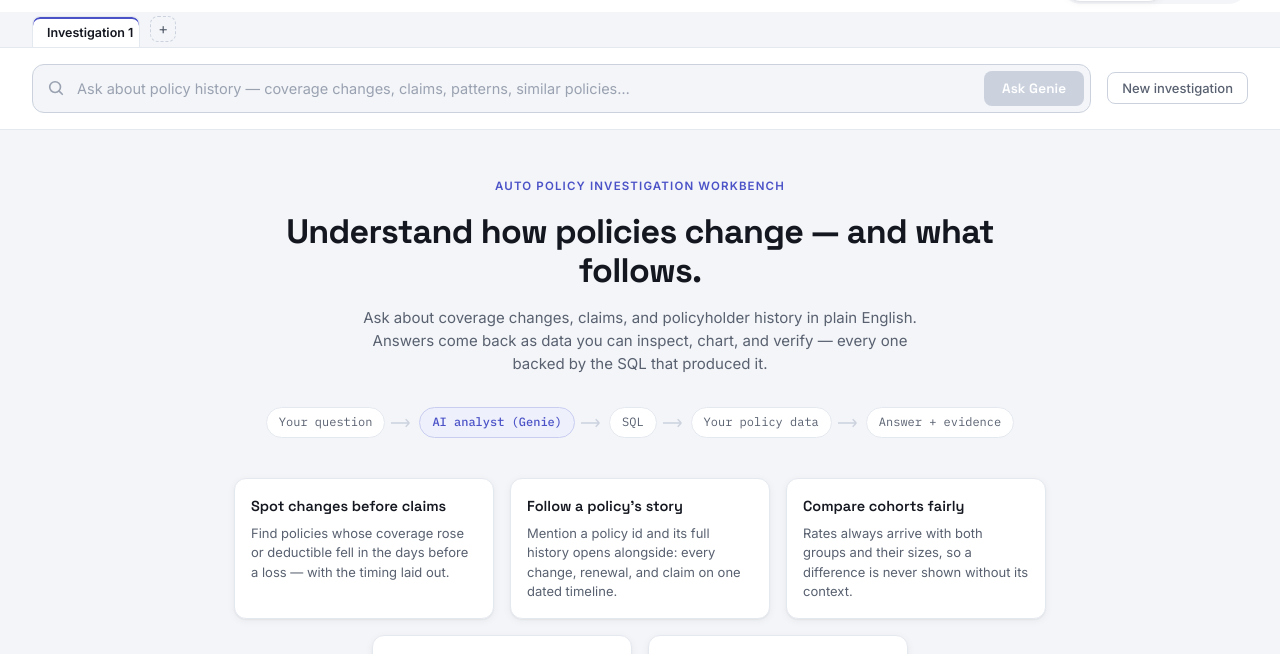
Test: App smoke test (mock mode) › the evidence drawer is collapsed by default and expands to show the generated SQL
The width and height of the screenshot is (1280, 654).
Replace the text in the field labelled "Ask about policy history" with "Show policies where coverage increased within 30 days before a claim." at (524, 88), box [73,72,976,105]
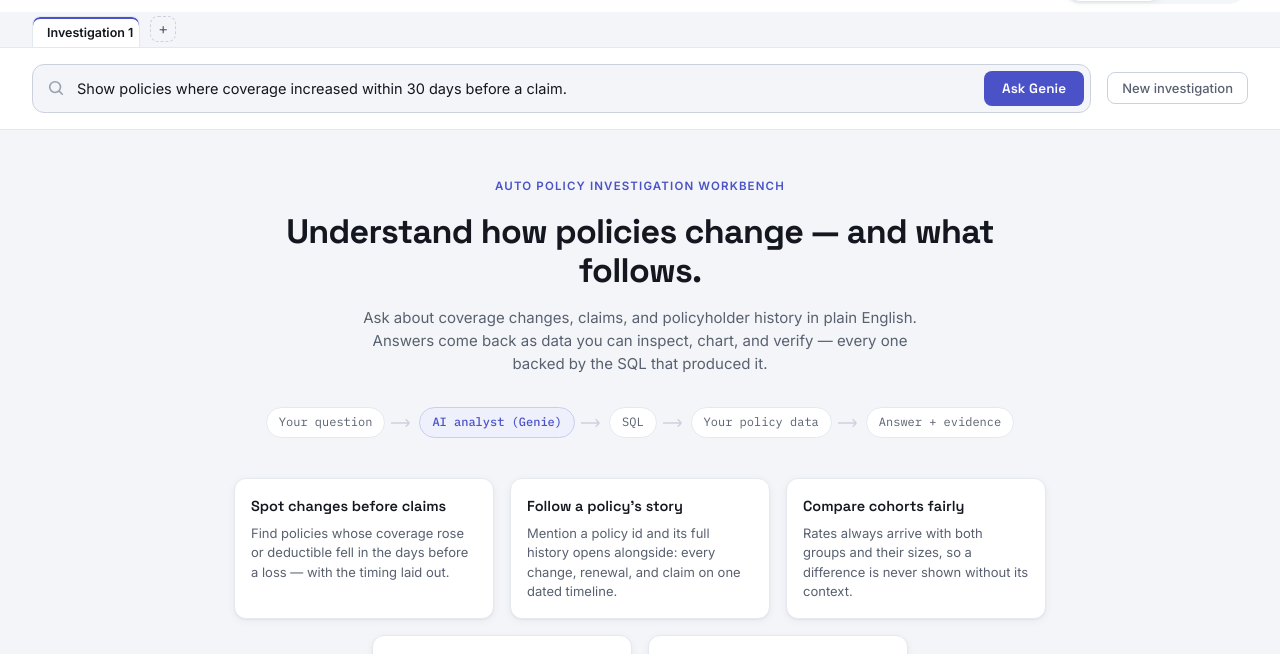
Submit the form named "Ask about policy history", box [32,64,1091,113]
(page scrolled)
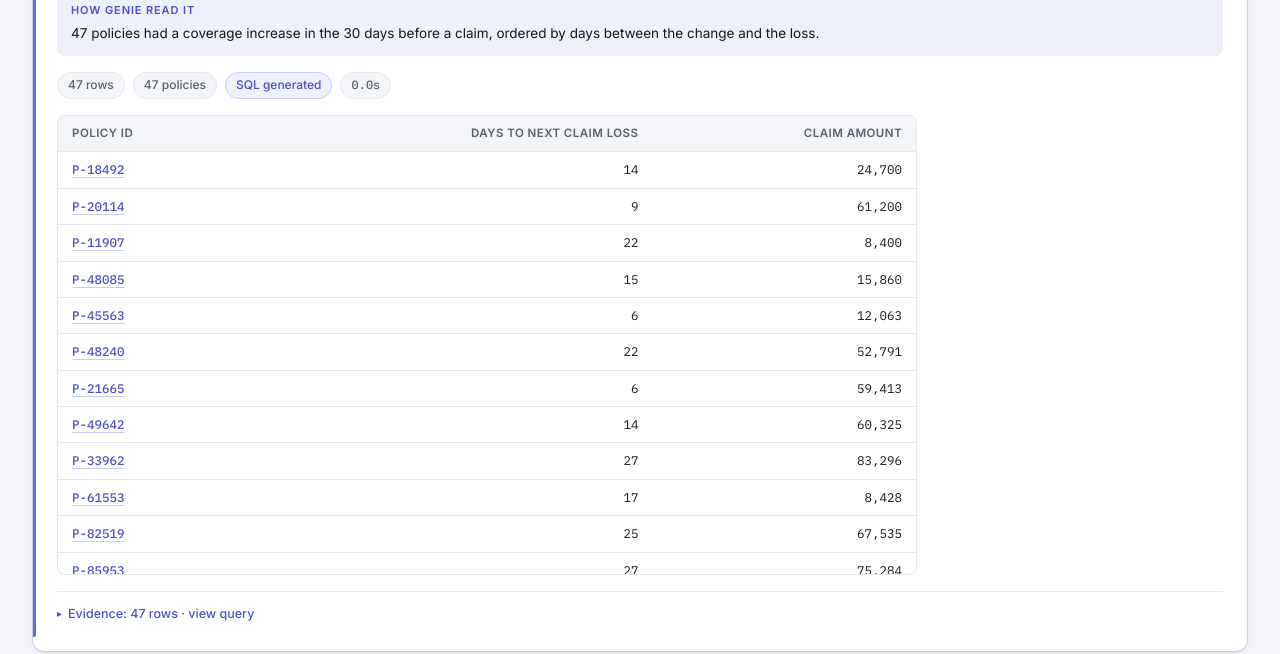
Expected: the text "SELECT" is not shown
Click the button "▸ Evidence: 47 rows · view query" at (156, 613), box [57,600,254,627]
(page scrolled)
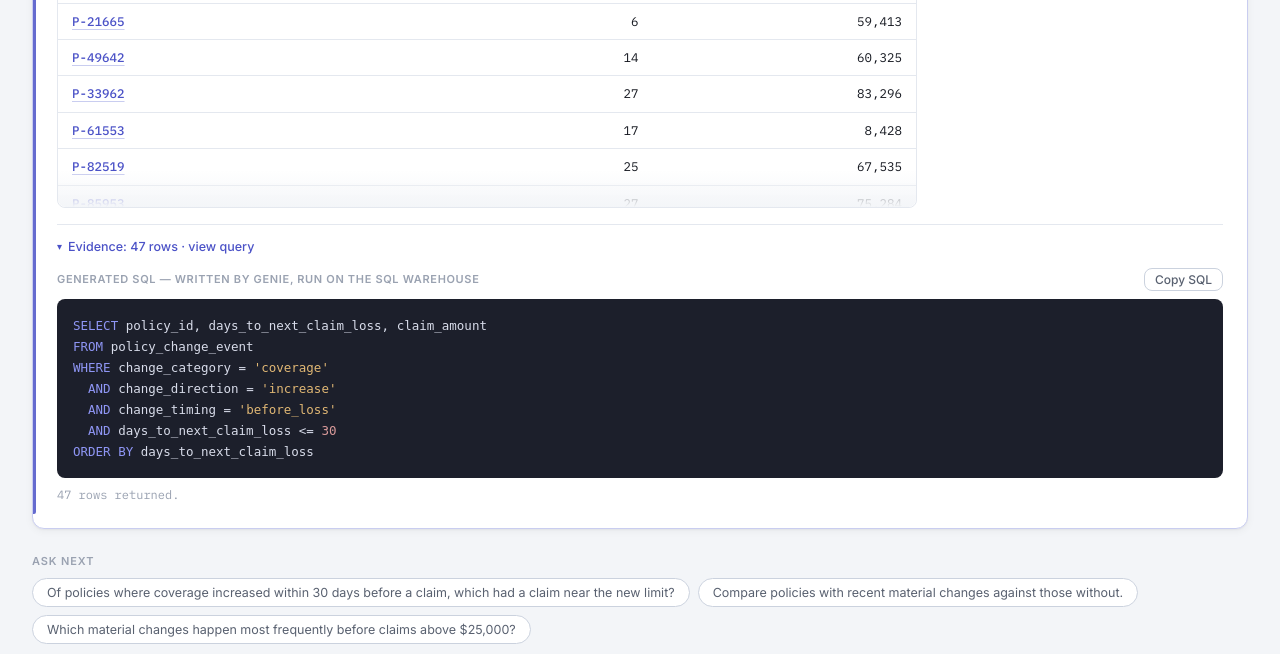
Now the text "SELECT" is shown, box [73,318,118,333]
